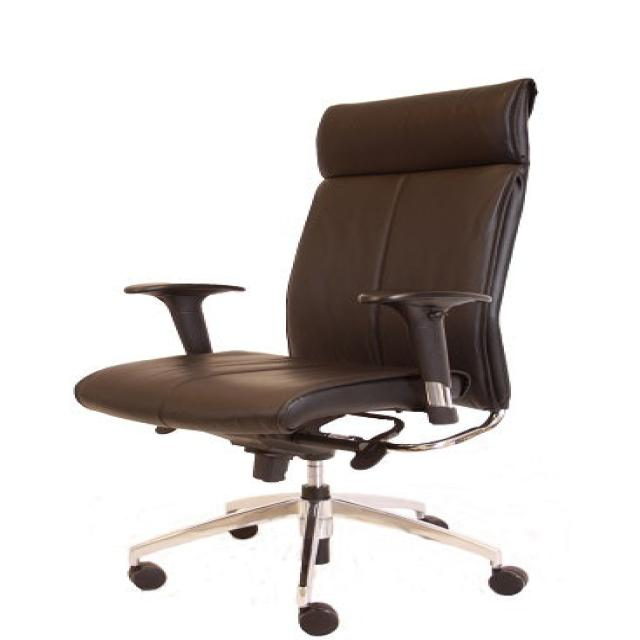chair: (72, 77, 537, 635)
